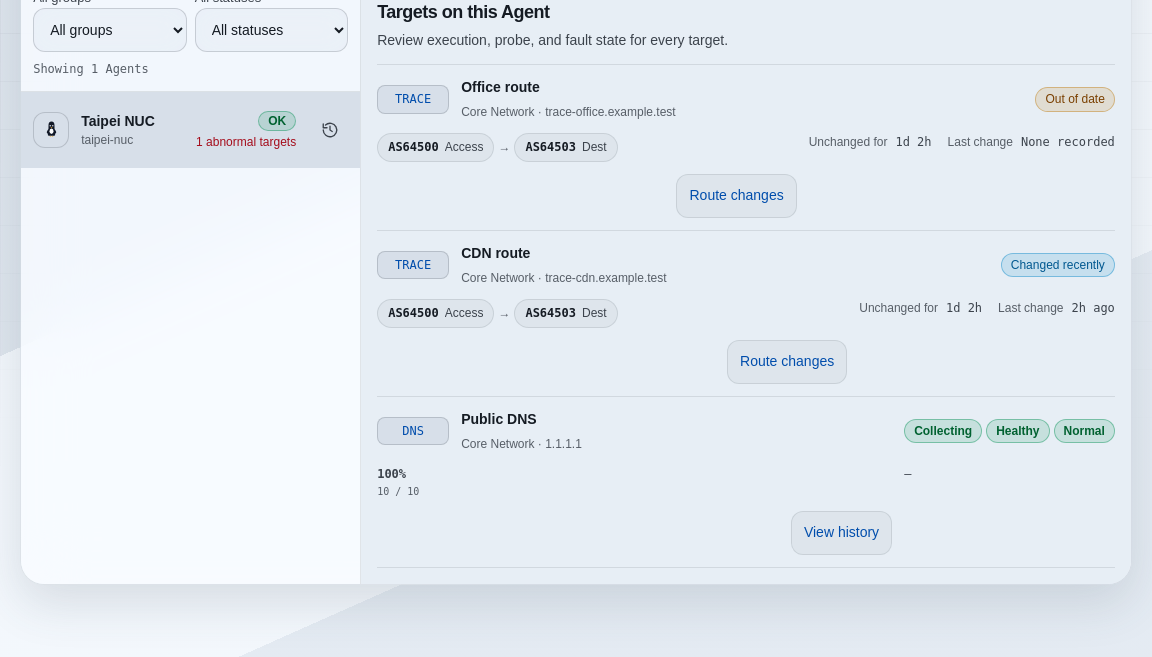
route monitors on the Agent view › shows trace rows without availability badges and a route timeline in target history
The image size is (1152, 657).
(page scrolled)
Expected: the number of elements with class "route-target-row" is 2, [377,65,1115,231]; [377,231,1115,397]
Expected: the text "Out of date" is shown, [1036,87,1115,112]
Step 1. Click the button with class "history-row-action" below "2h ago" → (787, 362), box [727,340,847,384]
(page scrolled)
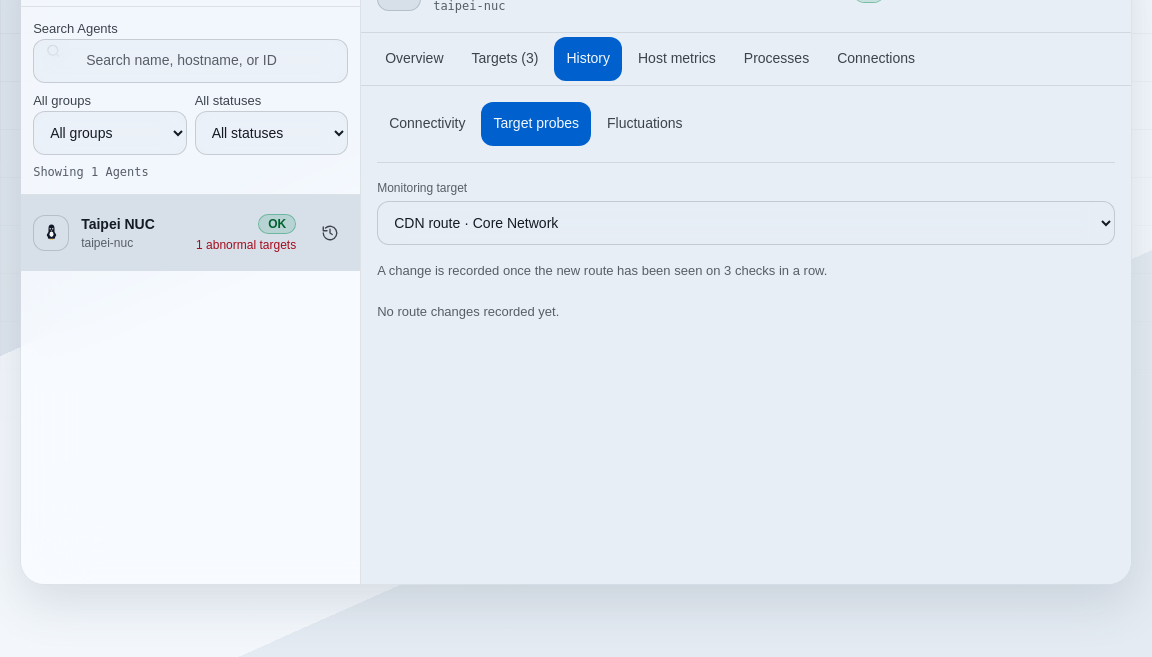
Expected: the element with class "route-change-timeline" is shown, [377,263,828,319]
